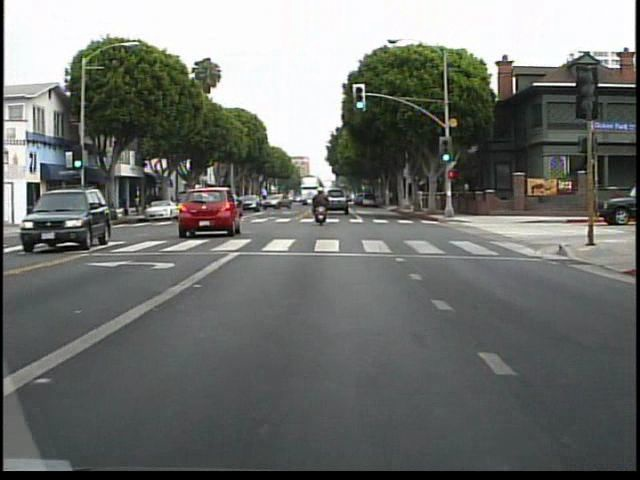person: (309, 181, 334, 228)
